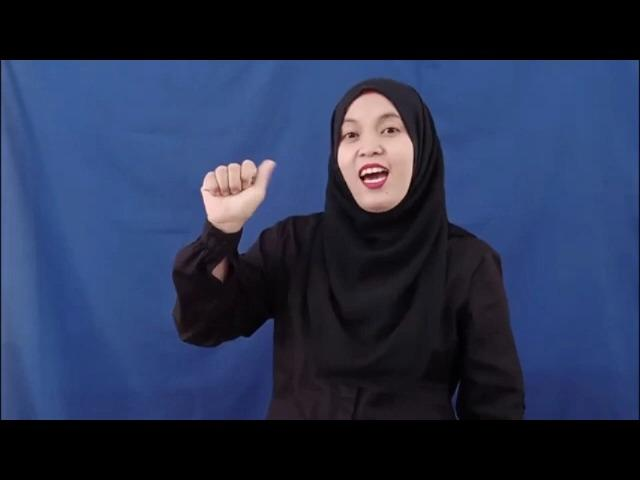S: (198, 158, 278, 228)
